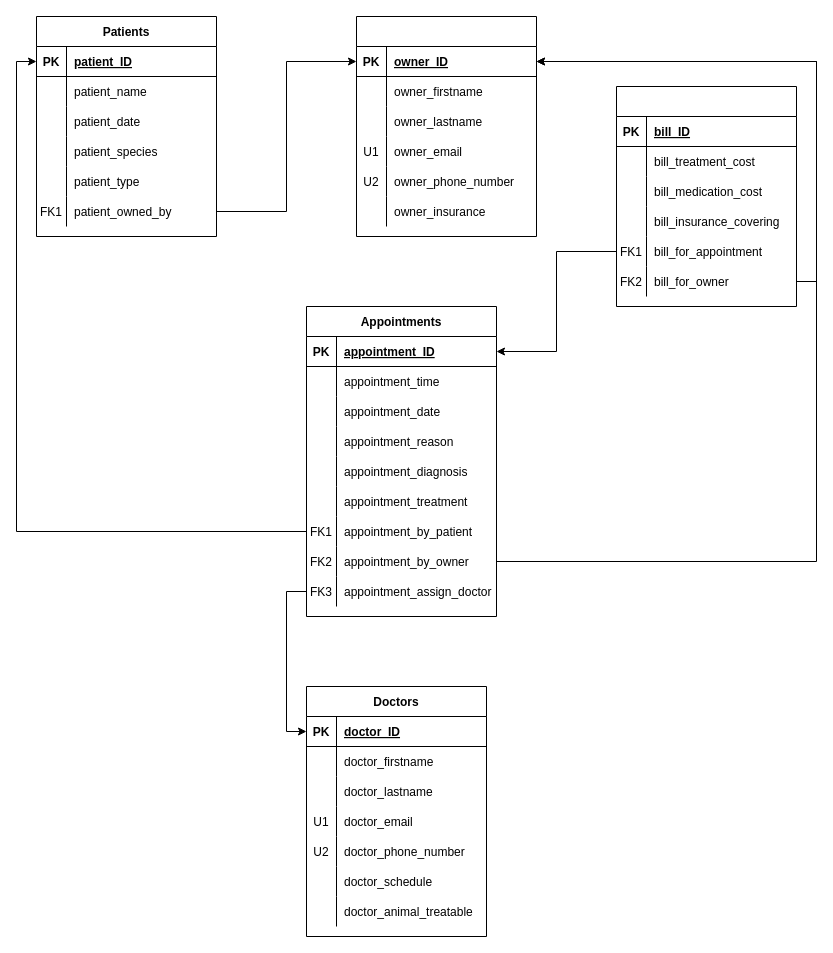
Image size: 833x953. Some labels were removed from this diagram. Each missing label, with the box of its shape:
Bills: (616, 86, 796, 306)
Owners: (356, 16, 536, 236)
